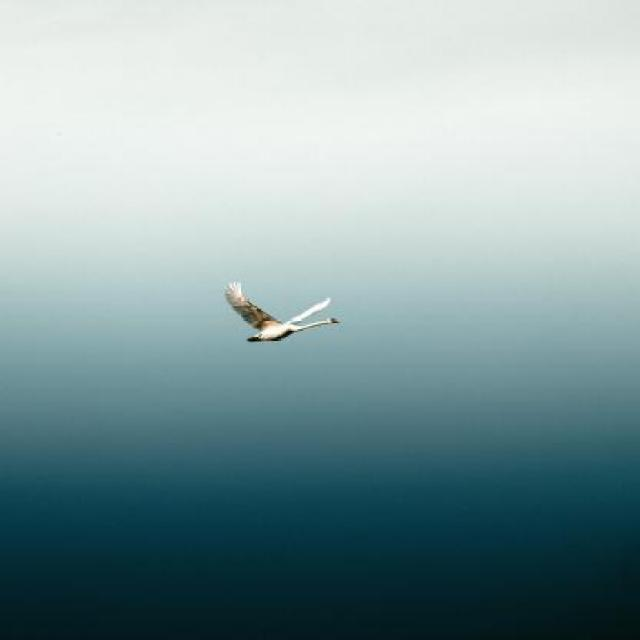bird: (222, 282, 340, 344)
